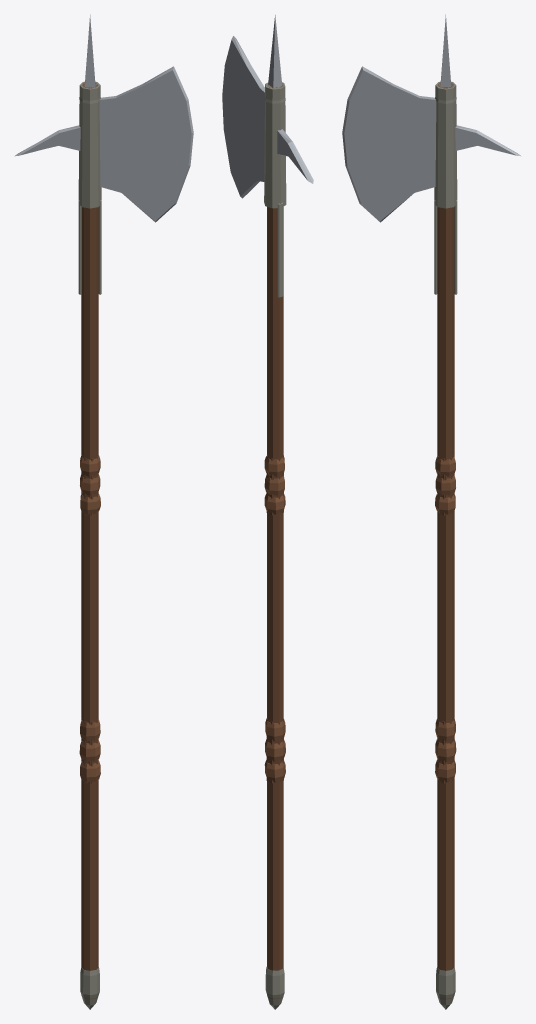
File: halberd.glb
3 renders of one model, left to right at view 1: azimuth 90°, elevation 25°; view 2: azimuth 210°, elevation 25°; view 3: azimuth 270°, elevation 25°, orthographic.
Parts seen in each view (by area): view 1: halberd; view 2: halberd; view 3: halberd.
Boxes of the visible parts, <box> form: halberd: <box>14,14,193,1009</box>; halberd: <box>222,15,313,1009</box>; halberd: <box>342,14,521,1009</box>.
Size of the model in its own units: 0.044 by 2.1 by 0.343.
